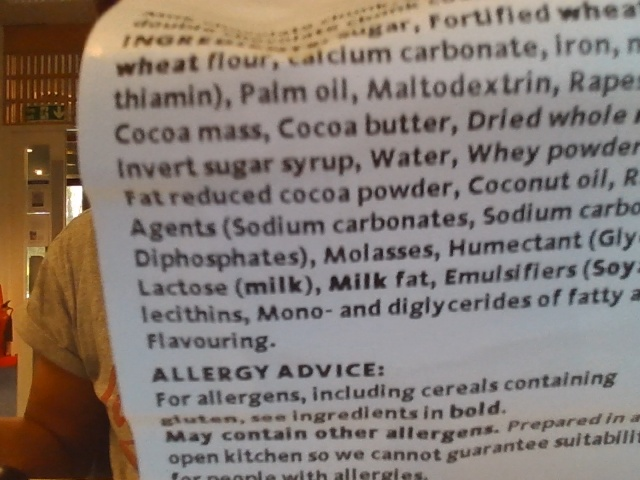milk: (324, 269, 385, 289), (244, 276, 303, 296)
